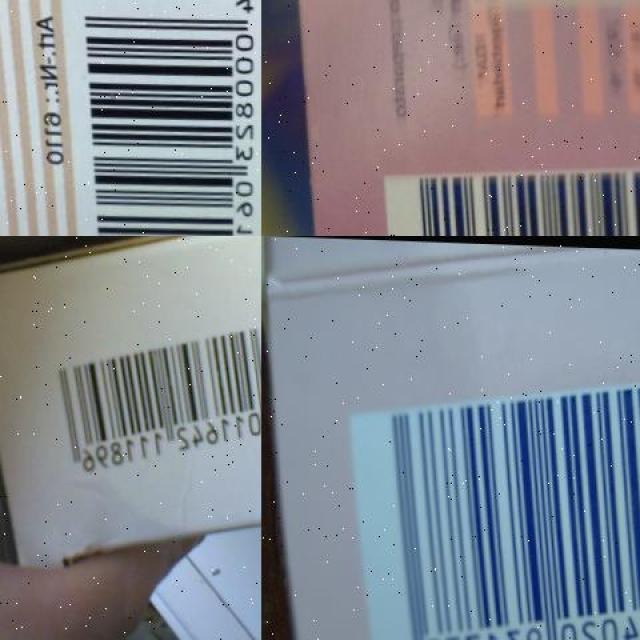Barcode: (349, 353, 640, 640), (22, 281, 262, 500), (72, 0, 261, 236), (380, 149, 640, 236)
